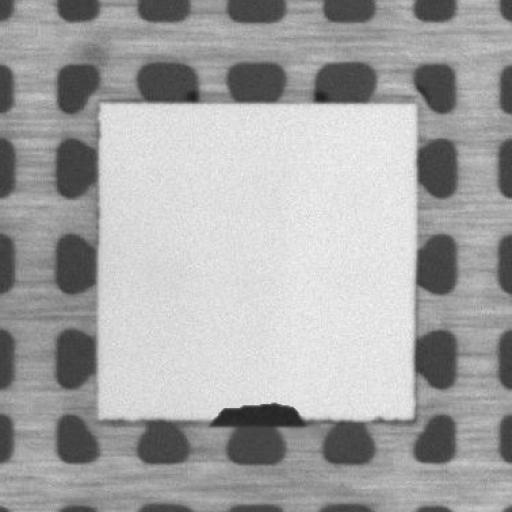DIE_BROKEN: (206, 400, 305, 425)
